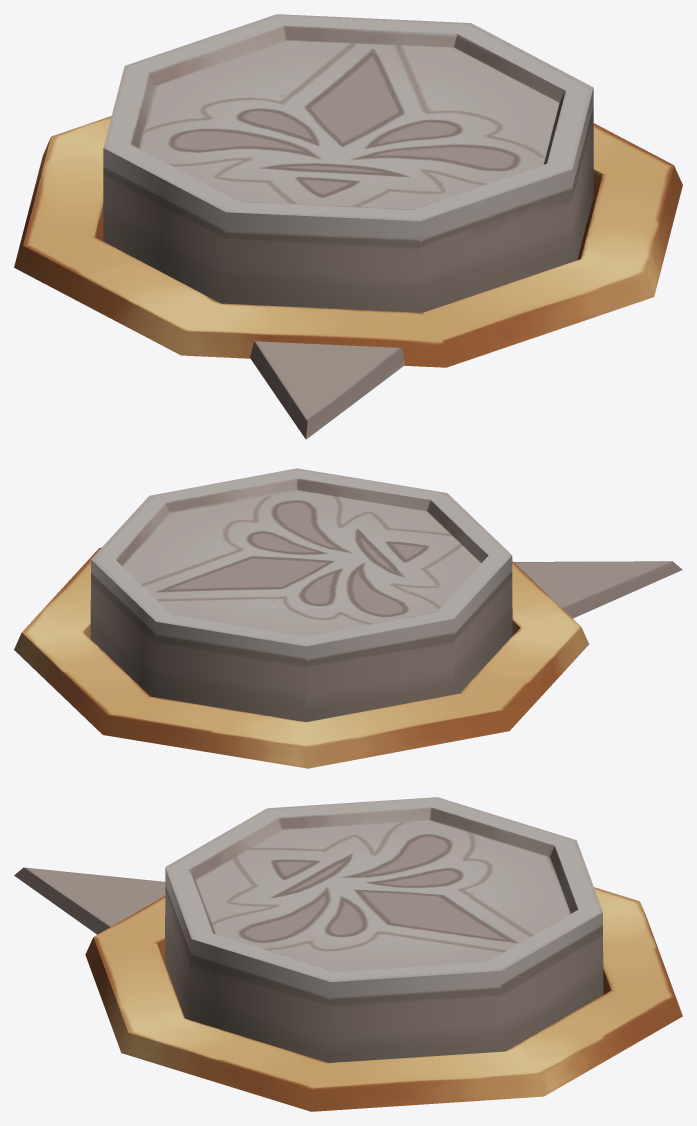
The model's file is button 1.FBX.
The picture shows the model from 3 angles, top to bottom: view 1: azimuth 30°, elevation 25°; view 2: azimuth 150°, elevation 25°; view 3: azimuth 270°, elevation 25°; orthographic projection. The views are drawn at different scales.
Parts seen in each view (by area): view 1: Object026; view 2: Object026; view 3: Object026.
Boxes of the visible parts, x1,y1,x2,y2 form: Object026: [14, 14, 682, 439]; Object026: [14, 468, 682, 768]; Object026: [14, 797, 682, 1111].
Bounding box in the file's own units: 247 × 43.83 × 277.
